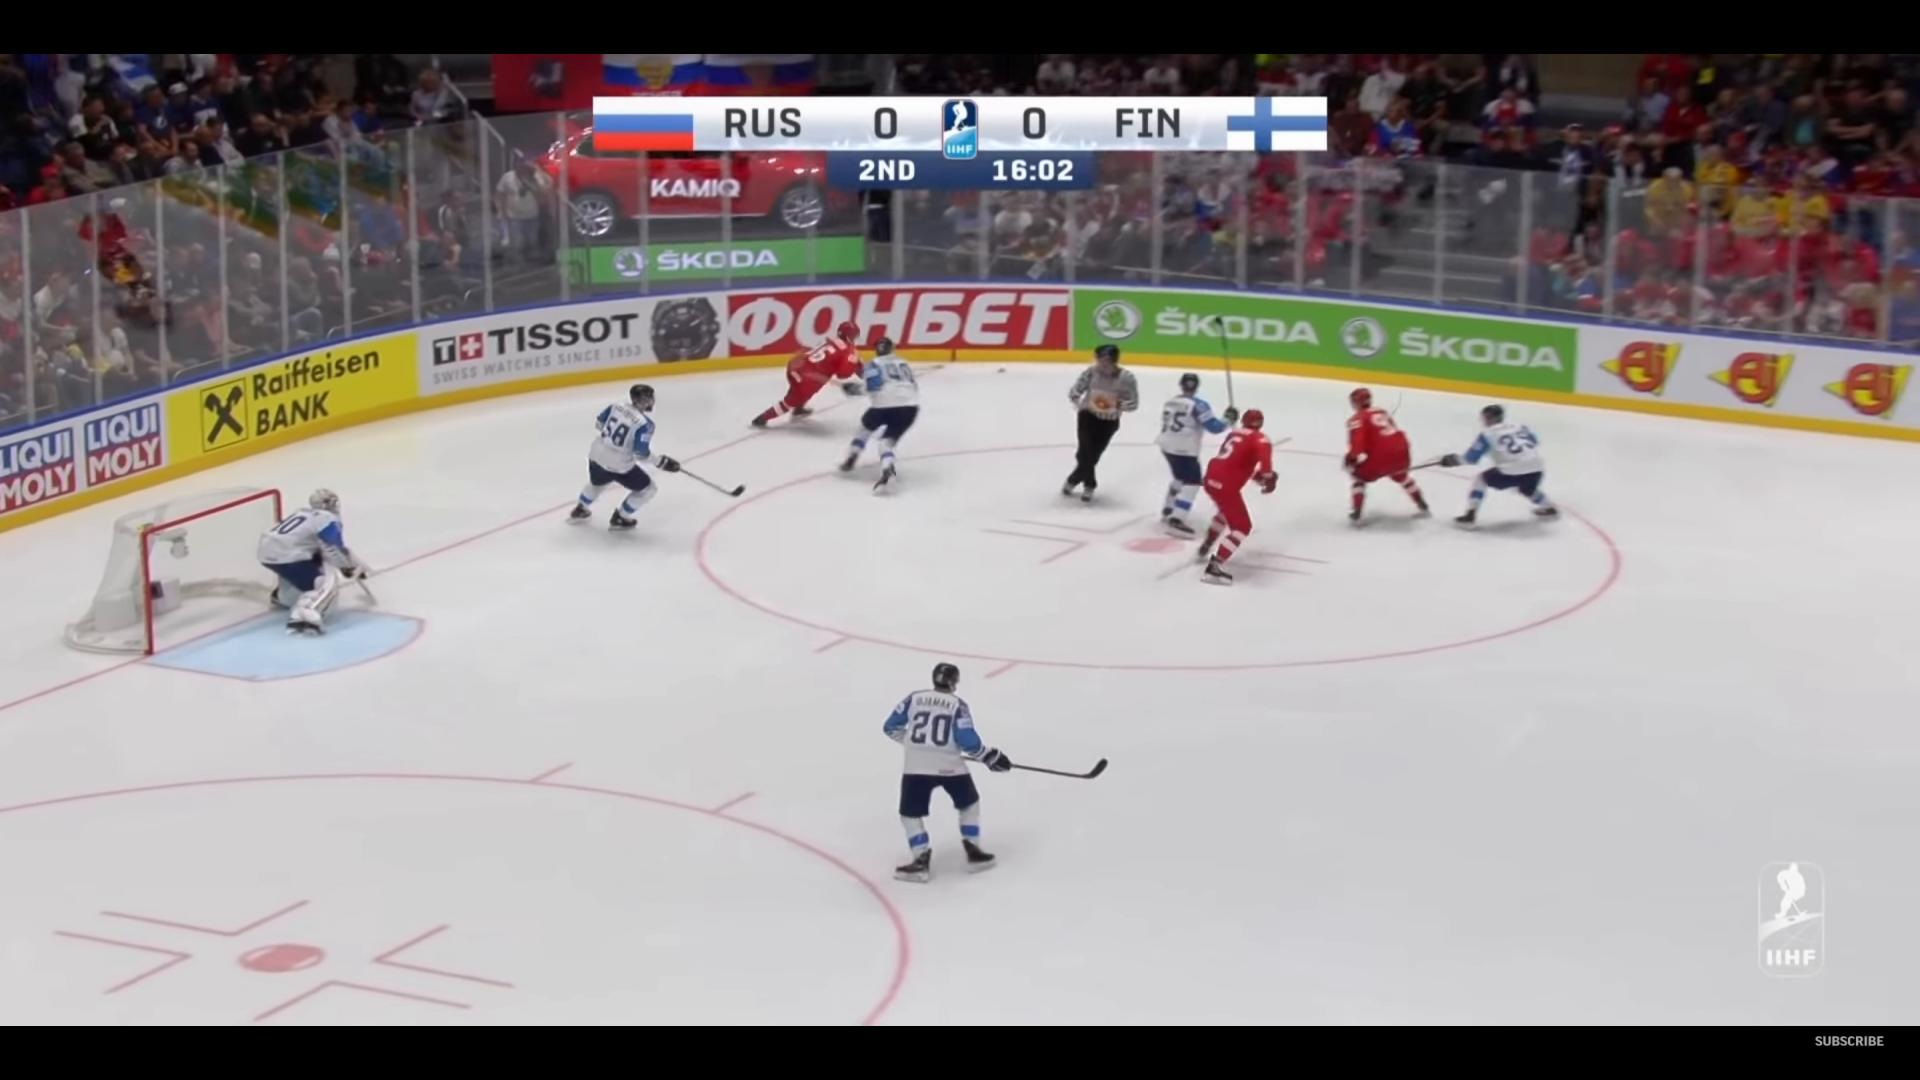puck: (996, 366, 1005, 373)
